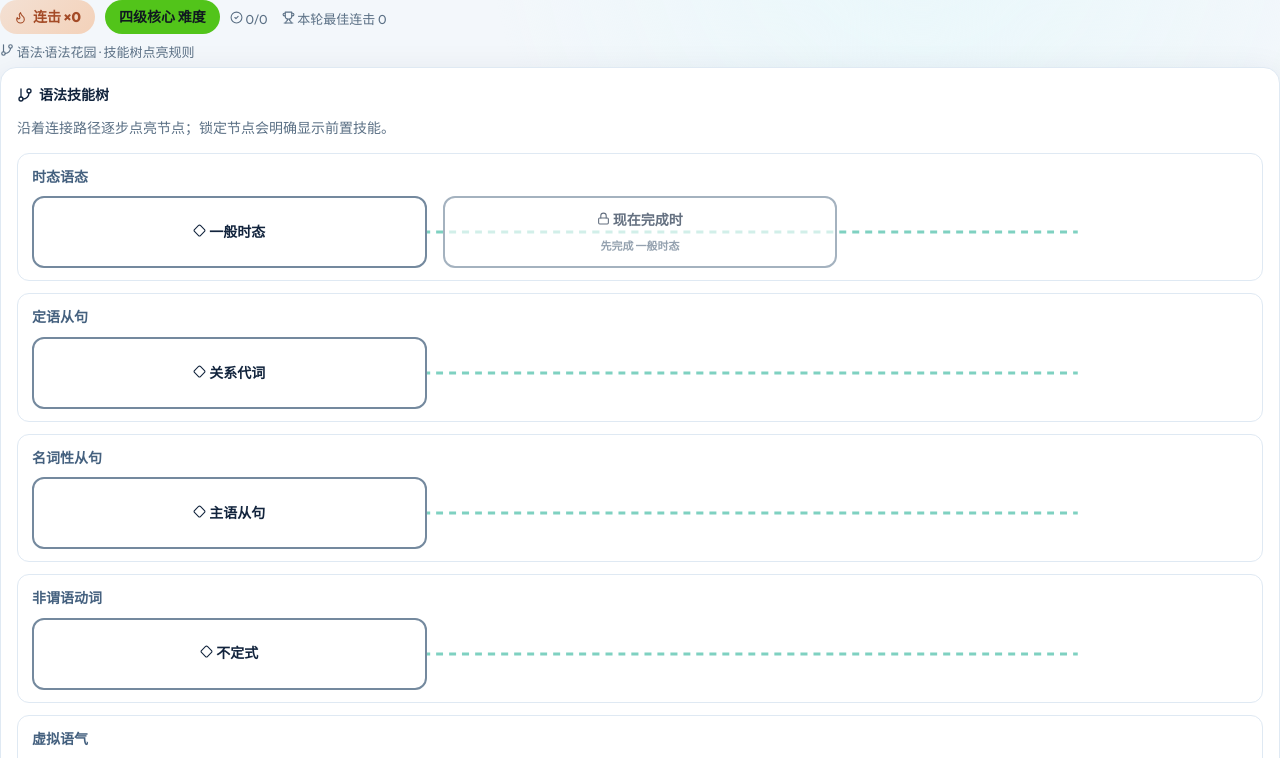
Test case: grammar keyboard answering › shows the quiz sentence itself and keeps the examples collapsed
Click the button "一般时态". click: (229, 232)
box: top-left (32, 196), bottom-right (427, 268)
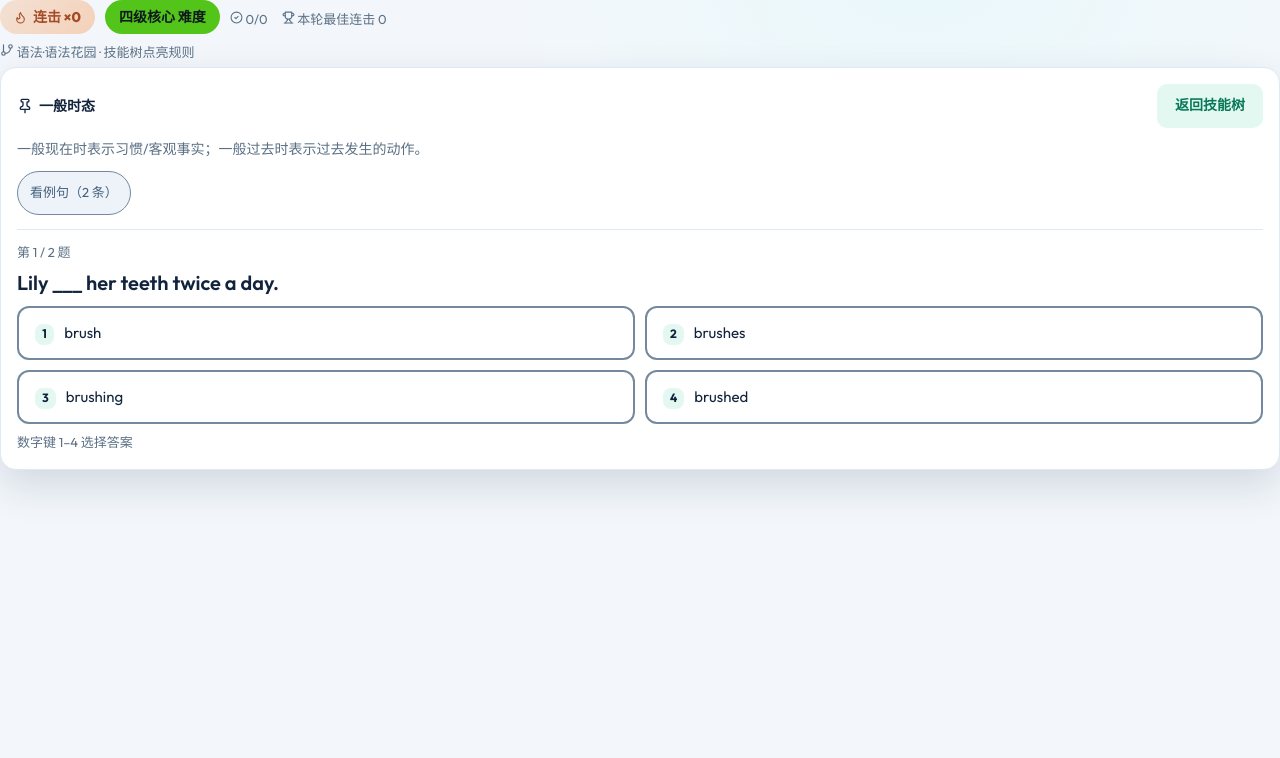
Expected: the text "Lily ___ her teeth twice a day." is shown, top-left (17, 270), bottom-right (279, 295)
Expected: the text "看例句（2 条）" is shown, top-left (17, 171), bottom-right (131, 215)
